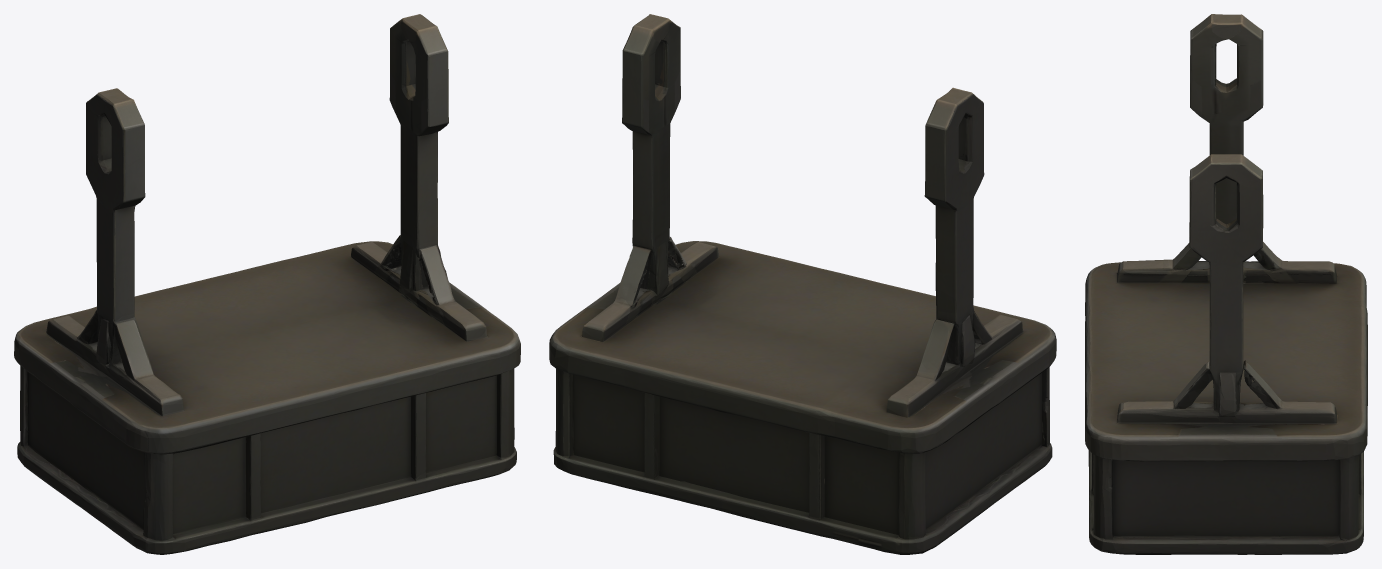
File: Podium_Noir_0602145850_texture.fbx
The picture shows the model from 3 angles, left to right: view 1: azimuth 30°, elevation 25°; view 2: azimuth 150°, elevation 25°; view 3: azimuth 270°, elevation 25°; orthographic projection. The views are drawn at different scales.
Visible parts, largest first — view 1: temp; view 2: temp; view 3: temp.
Part boxes in pixels (x1,y1,x2,y2): temp: (14,14,520,554); temp: (549,14,1056,554); temp: (1085,14,1367,554).
Bounding box in the file's own units: 200 × 199 × 134.
Materials: 1 (1 with a texture image).
